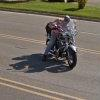Motorcycle: (39, 20, 81, 71)
